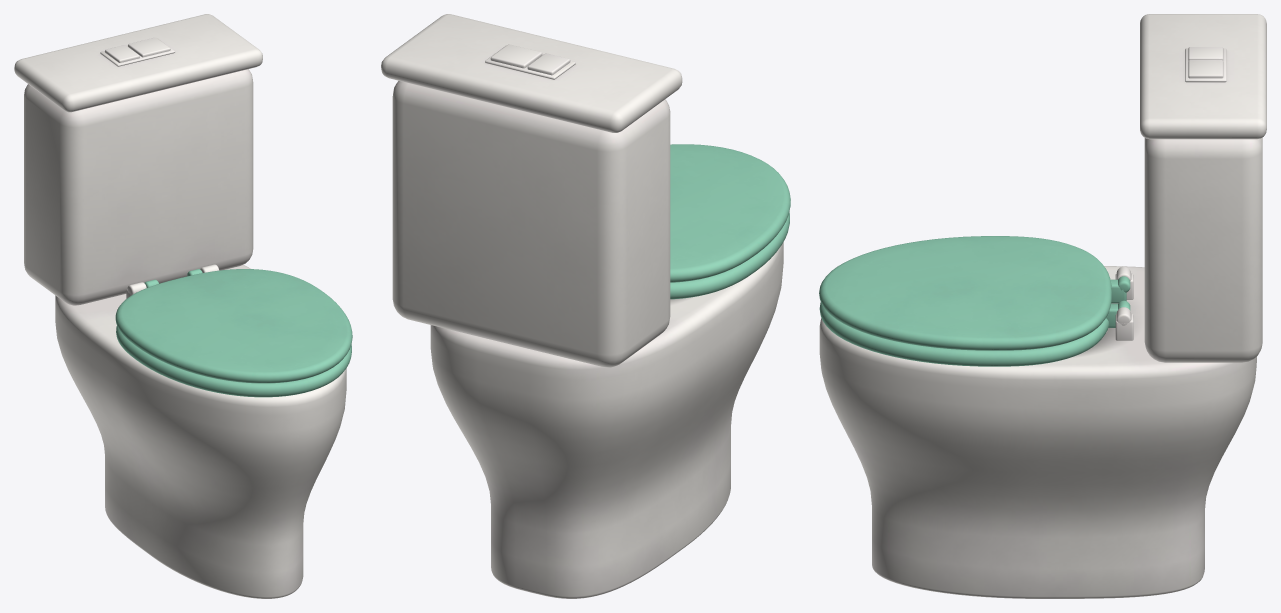
Rendered from toilet.glb.
The picture shows the model from 3 angles, left to right: view 1: azimuth 30°, elevation 25°; view 2: azimuth 150°, elevation 25°; view 3: azimuth 270°, elevation 25°; orthographic projection. The views are drawn at different scales.
Visible parts, largest first — view 1: toilet_body, toilet_lid, toilet_seat; view 2: toilet_body, toilet_lid, toilet_seat; view 3: toilet_body, toilet_lid, toilet_seat.
Part boxes in pixels (x1,y1,x2,y2): toilet_body: (14,14,346,598); toilet_lid: (115,269,352,383); toilet_seat: (116,269,351,397); toilet_body: (381,14,783,598); toilet_lid: (670,144,790,282); toilet_seat: (670,211,789,299); toilet_body: (819,14,1266,598); toilet_lid: (819,236,1111,350); toilet_seat: (819,276,1130,366).
Bounding box in the file's own units: 0.38 × 0.806 × 0.645.
Materials: 4 (3 with a texture image).
